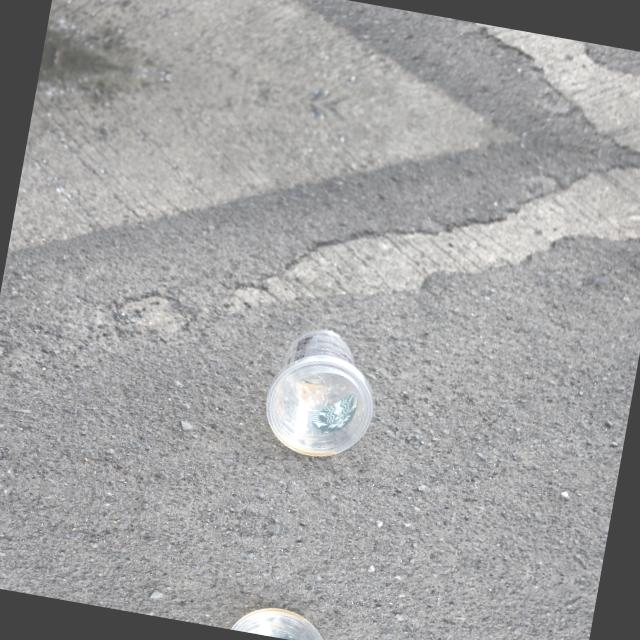Plastic: (255, 318, 388, 468), (224, 595, 339, 640)
